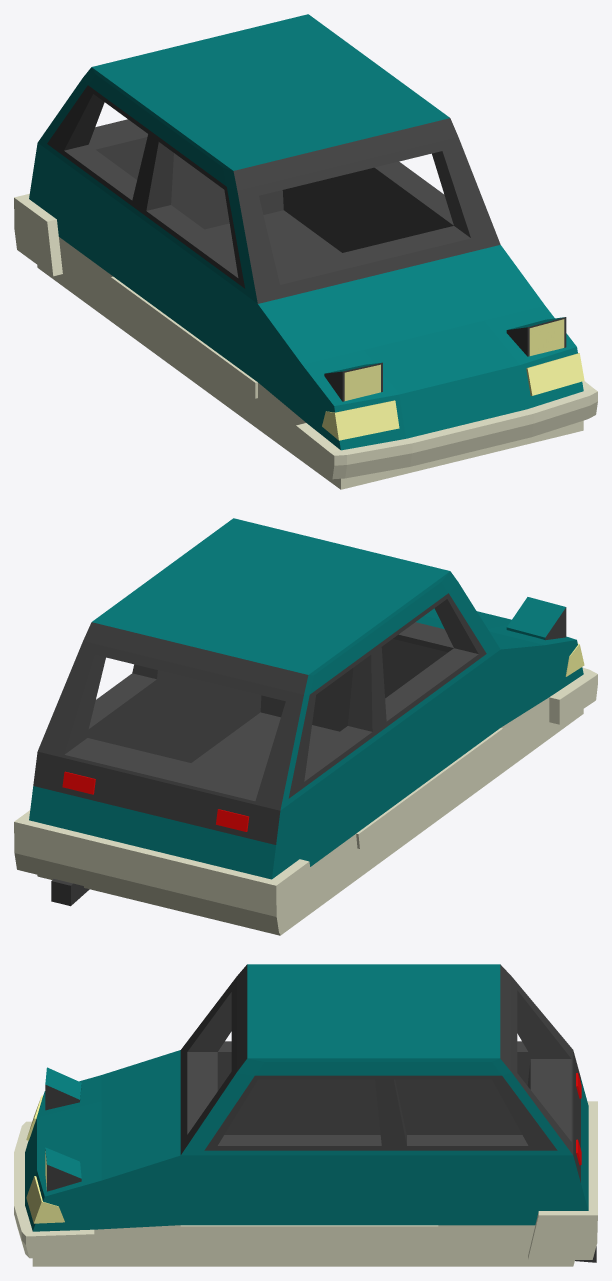
Rendered from 480 turbo.fbx.
3 views of the same model, one above another, from view 1: azimuth 30°, elevation 25°; view 2: azimuth 150°, elevation 25°; view 3: azimuth 270°, elevation 25° (orthographic). The views are drawn at different scales.
Parts seen in each view (by area): view 1: Cube; view 2: Cube; view 3: Cube.
Boxes of the visible parts, x1,y1,x2,y2 form: Cube: (14, 14, 597, 489); Cube: (14, 518, 597, 935); Cube: (14, 964, 597, 1266).
Bounding box in the file's own units: 270 × 231 × 581.
Materials: 2 (1 with a texture image).
